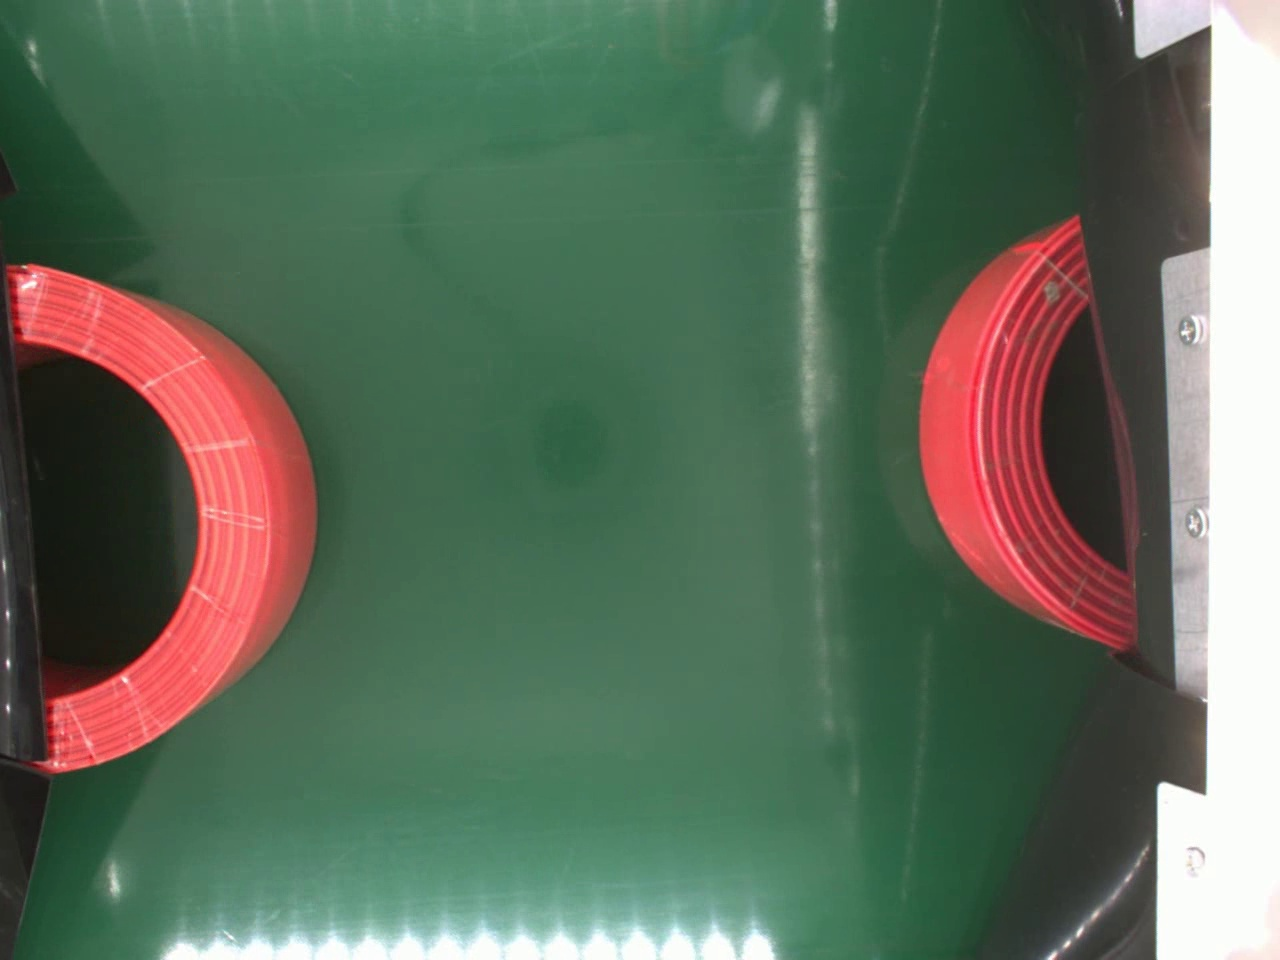red: (10, 263, 317, 776), (913, 214, 1135, 651)
